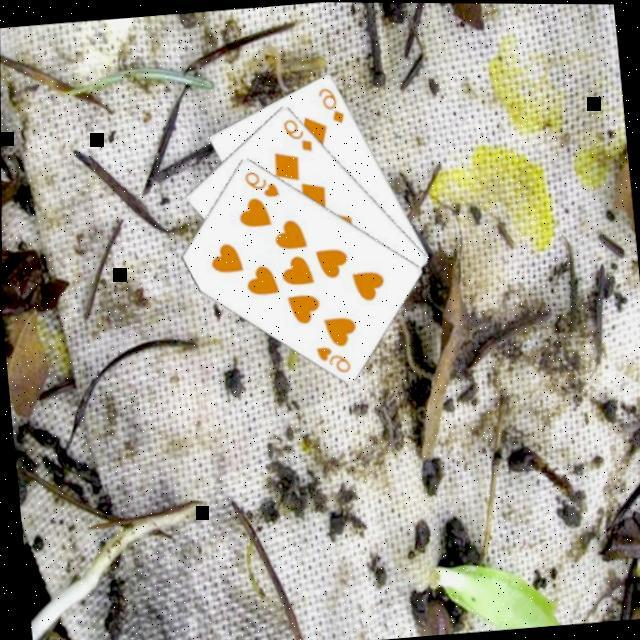6D: (311, 82, 345, 127)
9D: (276, 114, 313, 156)
9H: (237, 165, 280, 202), (309, 341, 351, 378)
